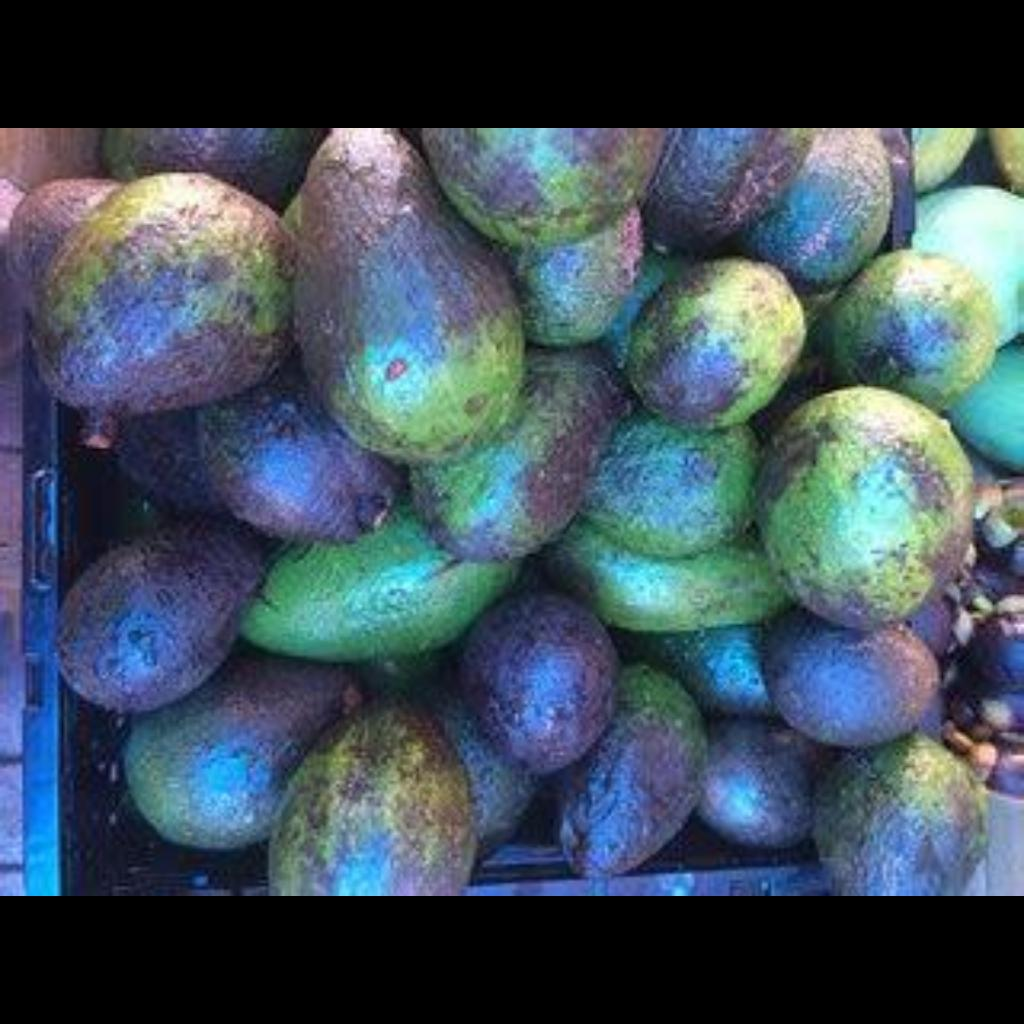Anthracnose: (9, 162, 291, 484), (474, 618, 742, 880)
